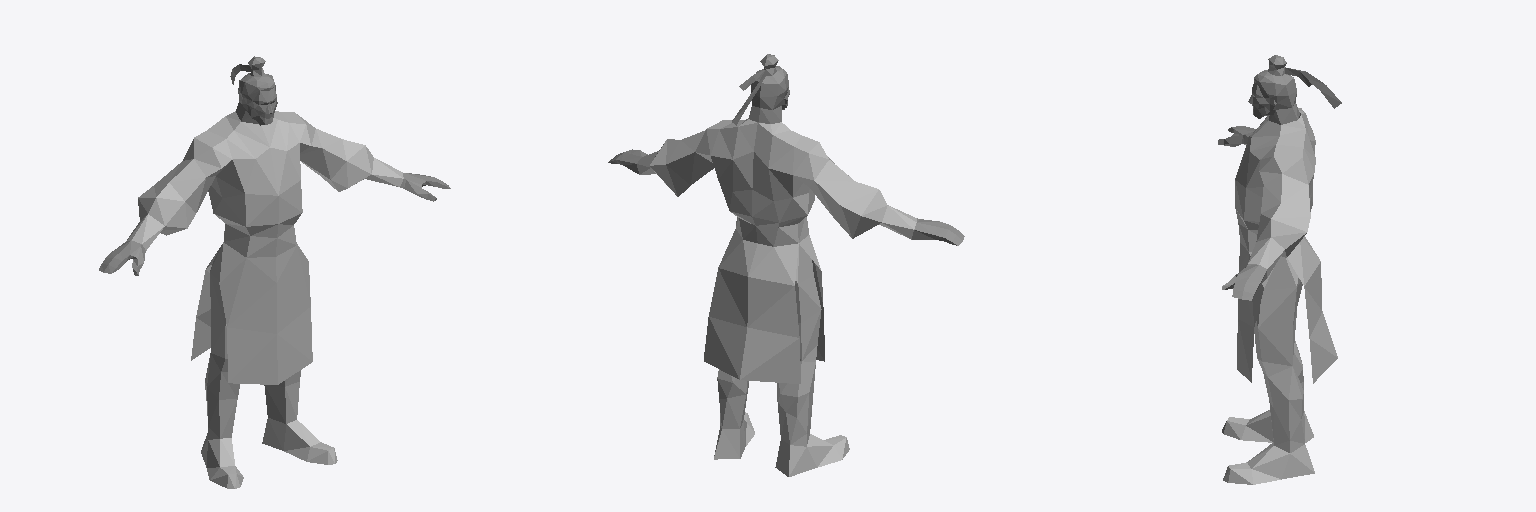
File: oriental.obj
3 renders of one model, left to right at view 1: azimuth 30°, elevation 25°; view 2: azimuth 150°, elevation 25°; view 3: azimuth 270°, elevation 25°, orthographic.
Parts seen in each view (by area): view 1: body, Object01; view 2: body, Object01; view 3: body, Object01.
Boxes of the visible parts, <box> form: body: <box>126,111,403,488</box>; Object01: <box>99,56,450,275</box>; body: <box>637,118,916,476</box>; Object01: <box>608,54,964,245</box>; body: <box>1222,108,1337,484</box>; Object01: <box>1218,55,1341,300</box>.
Size of the model in its own units: 1.72 by 1.89 by 0.533.